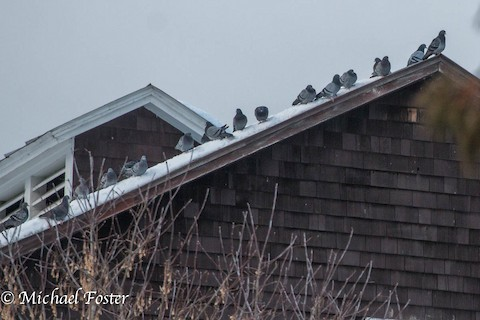pigeon: (38, 193, 77, 224), (2, 196, 31, 235), (400, 38, 433, 72), (424, 27, 452, 61), (118, 152, 151, 179), (314, 73, 348, 99), (93, 163, 121, 191), (366, 53, 395, 76), (203, 118, 230, 142), (291, 82, 319, 105), (172, 132, 198, 156), (68, 176, 91, 201), (231, 107, 250, 134), (337, 68, 358, 86), (254, 103, 271, 123)
